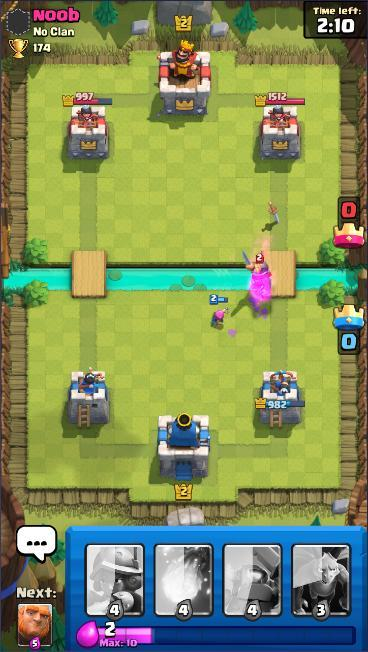ally_archer: (208, 293, 232, 331)
enemy_knight: (240, 246, 274, 297)
